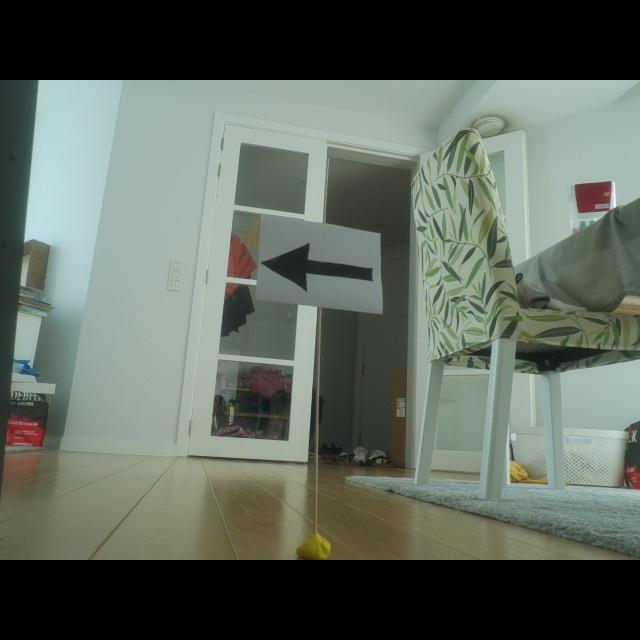balra_nyil: (261, 243, 372, 291)
